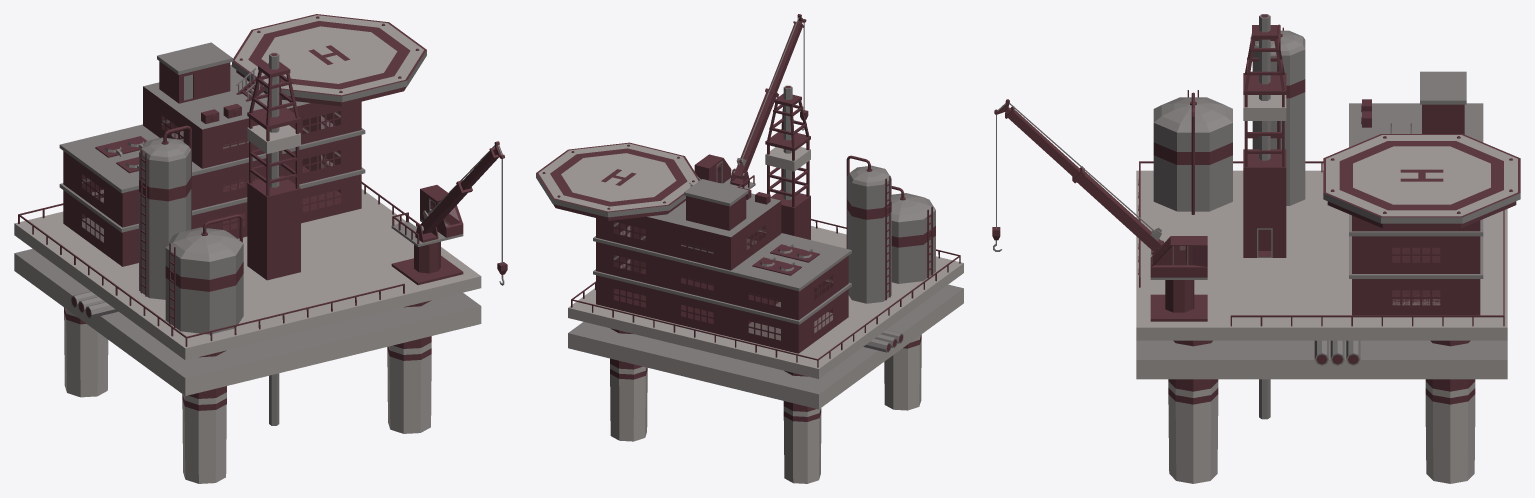
Rendered from sea-refinery.fbx.
3 views of the same model, side by side, from view 1: azimuth 30°, elevation 25°; view 2: azimuth 150°, elevation 25°; view 3: azimuth 270°, elevation 25° (orthographic). The views are drawn at different scales.
Parts seen in each view (by area): view 1: sea-refinery; view 2: sea-refinery; view 3: sea-refinery.
Part boxes in pixels (x1=…): sea-refinery: x1=14, y1=14, x2=507, y2=483; sea-refinery: x1=536, y1=14, x2=963, y2=483; sea-refinery: x1=992, y1=14, x2=1520, y2=483.
Size of the model in its own units: 32.11 by 31.16 by 36.98.
